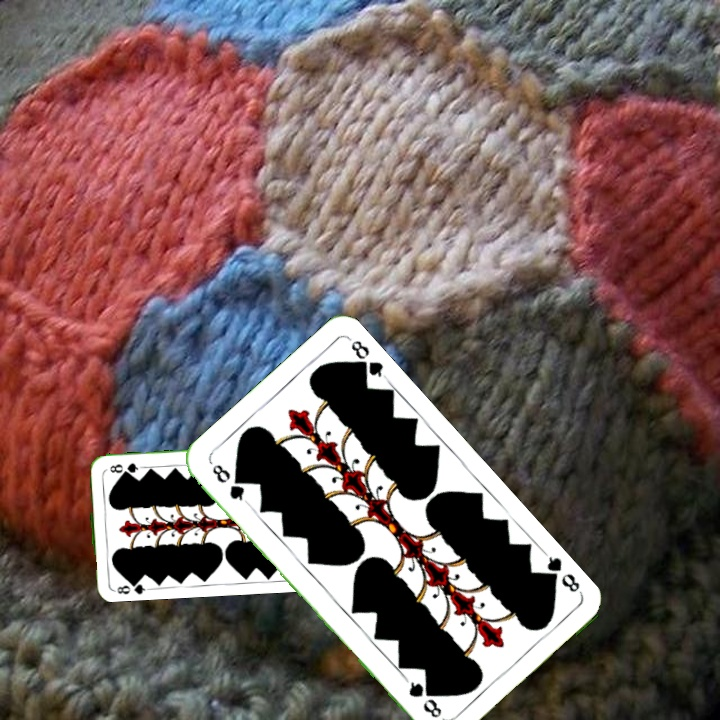G8: (539, 549, 585, 597), (208, 460, 251, 507), (109, 576, 150, 597)
